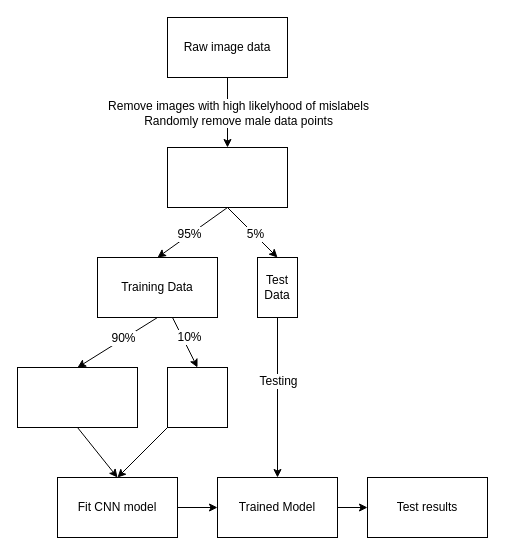
This 505x555 diagram has some shape labels left out. The shapes that lost their labels are listed below. From the top down, each one's box as (x1, y1, x2, y2) in pixels, then its label:
(166, 146, 288, 208): Balanced image data
(16, 366, 138, 428): Training Set
(166, 366, 228, 428): Validation Set
